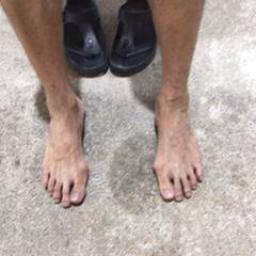Dorsal View -Both Feet-: (27, 68, 211, 218)
